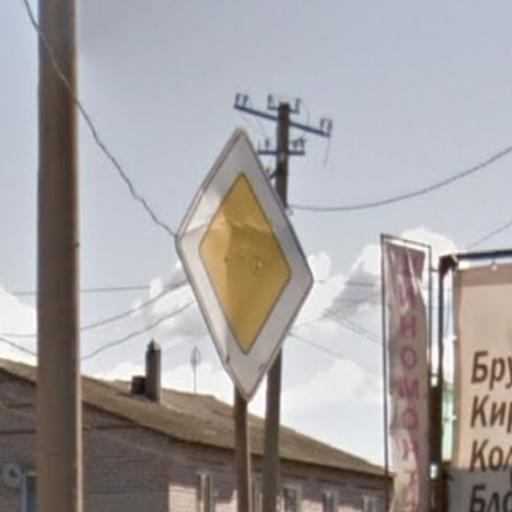traffic_sign: (174, 126, 315, 404)
